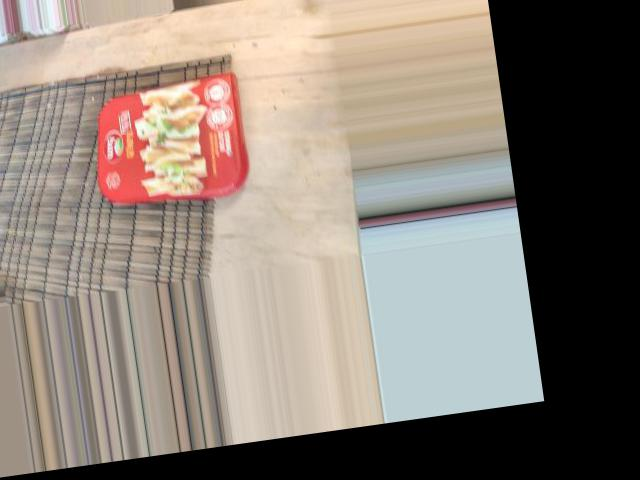cheese: (85, 72, 263, 205)
